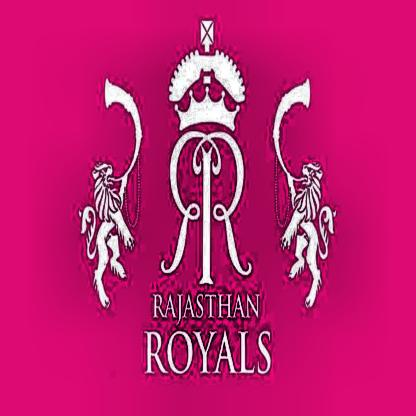Rajasthan Royals: (146, 10, 271, 376)
